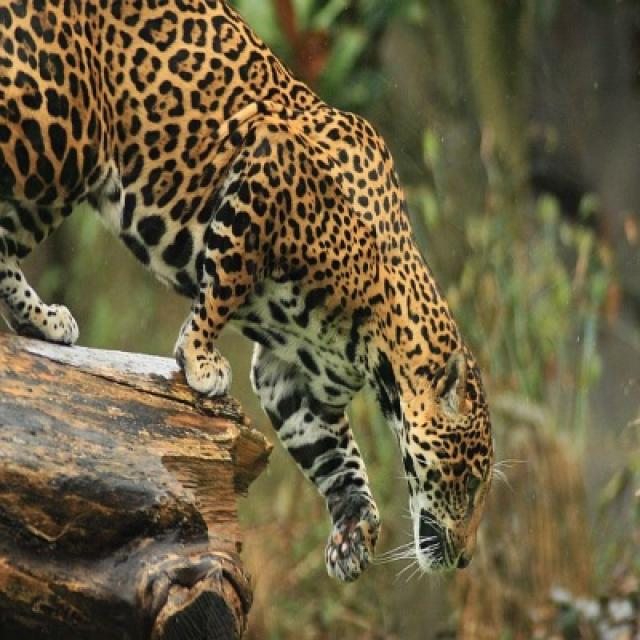Jaguar: (0, 0, 494, 584)
